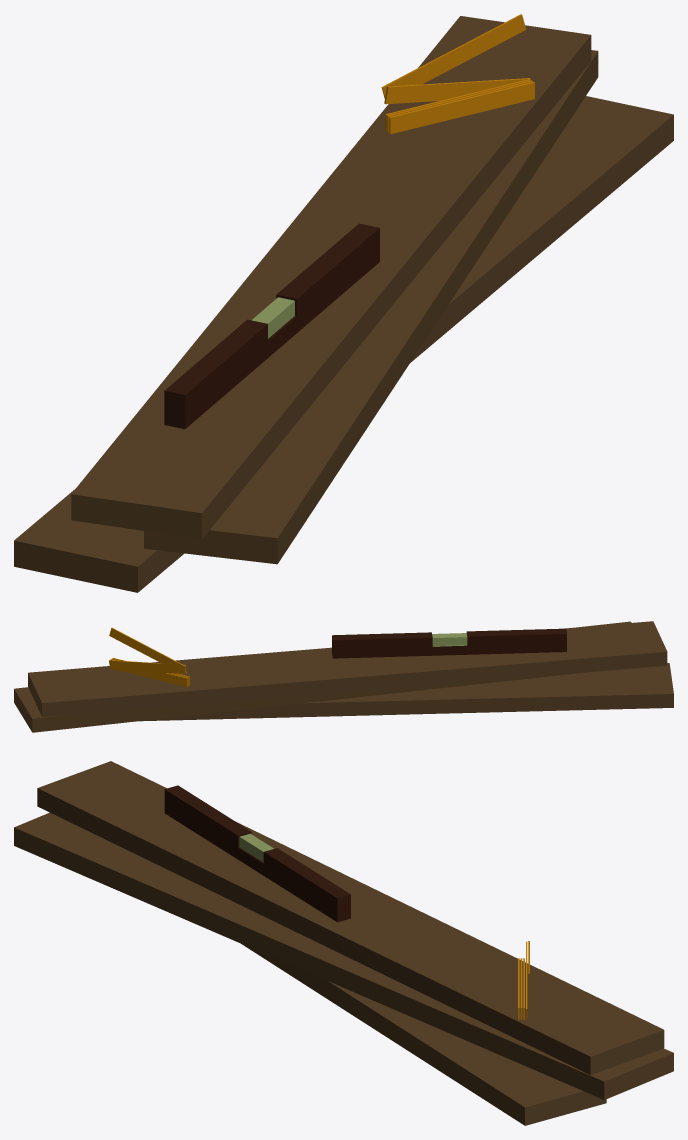
The model's file is construction.fbx.
3 renders of one model, top to bottom at view 1: azimuth 30°, elevation 25°; view 2: azimuth 150°, elevation 25°; view 3: azimuth 270°, elevation 25°, orthographic. The views are drawn at different scales.
Visible parts, largest first — view 1: construction_model001; view 2: construction_model001; view 3: construction_model001.
Boxes of the visible parts, x1,y1,x2,y2 form: construction_model001: (14,14,673,592); construction_model001: (14,621,673,732); construction_model001: (14,761,673,1125).
Size of what is drawn, in the model's own units: 238 by 39.23 by 207.
